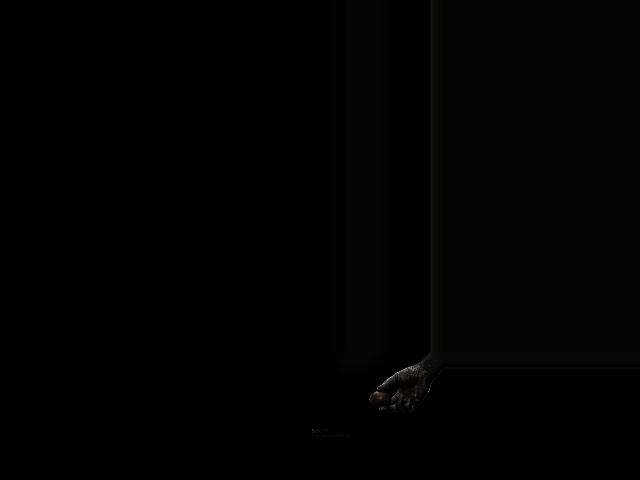egg: (370, 390, 392, 406)
